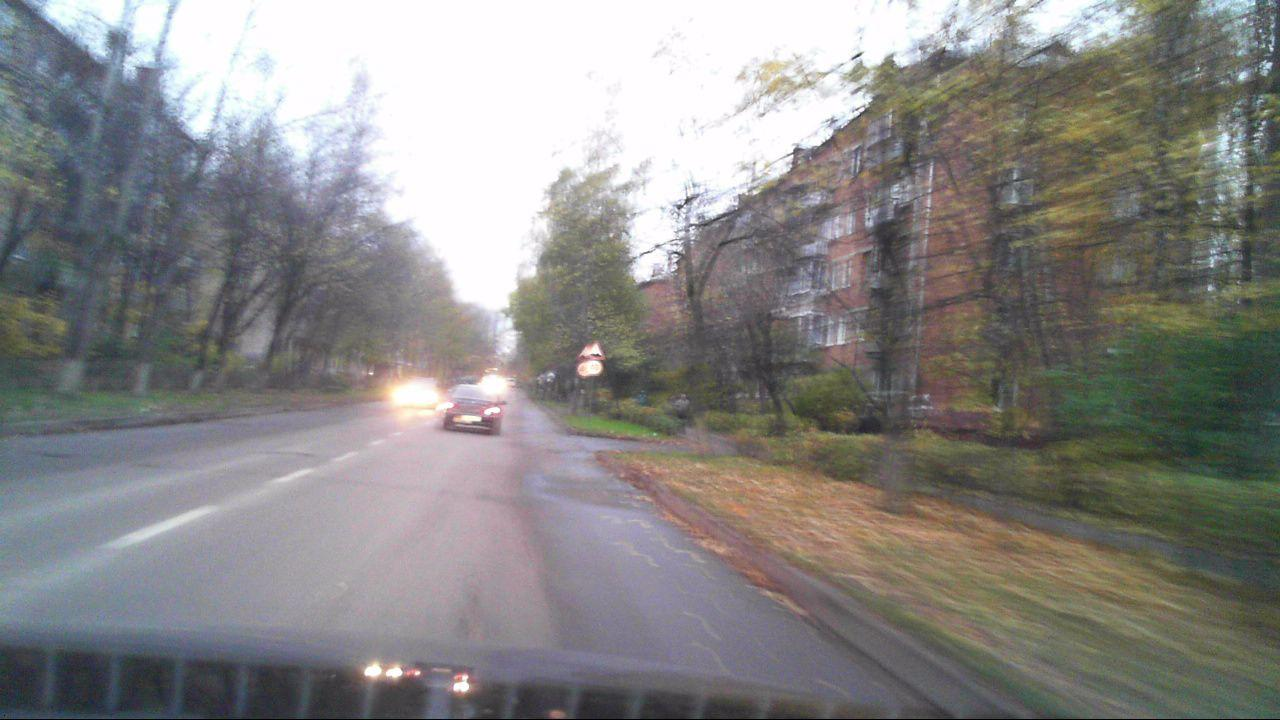1_16: (584, 339, 605, 359)
